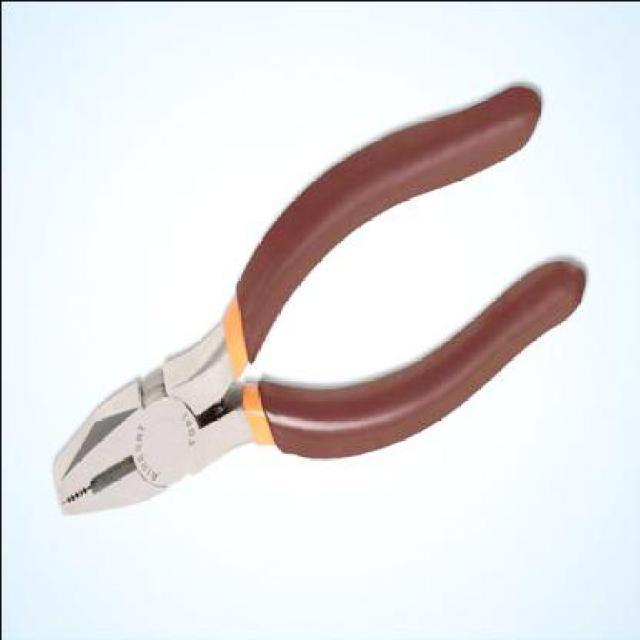pliers: (56, 88, 584, 520)
